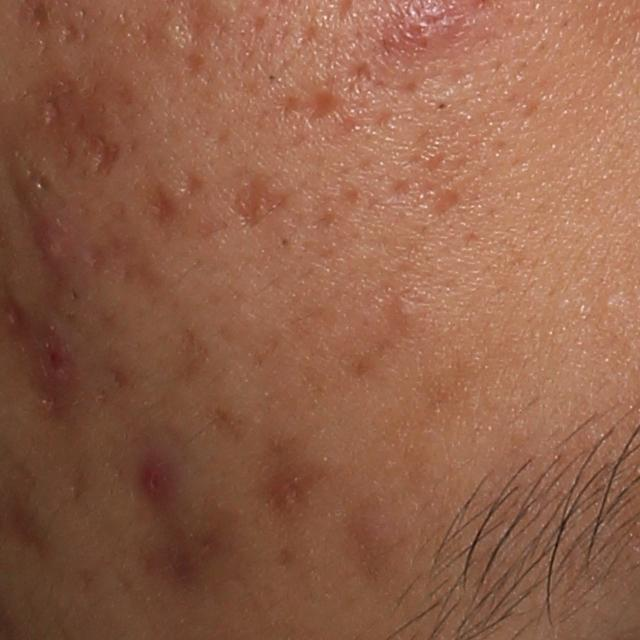atrophic_scar: (129, 499, 235, 593), (228, 171, 297, 234), (271, 86, 348, 128), (419, 66, 475, 108), (78, 128, 120, 183), (15, 149, 57, 201), (409, 177, 462, 216), (143, 175, 177, 232), (178, 169, 203, 202), (57, 20, 84, 47), (299, 17, 324, 46)
comedo: (602, 291, 623, 315), (278, 232, 292, 248)
papule: (33, 219, 78, 267), (36, 335, 79, 384), (137, 459, 172, 501)
